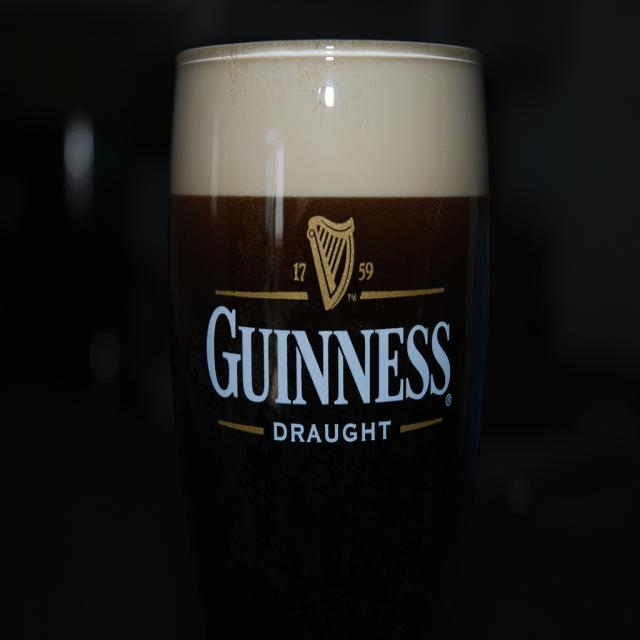guiness: (204, 213, 454, 409)
